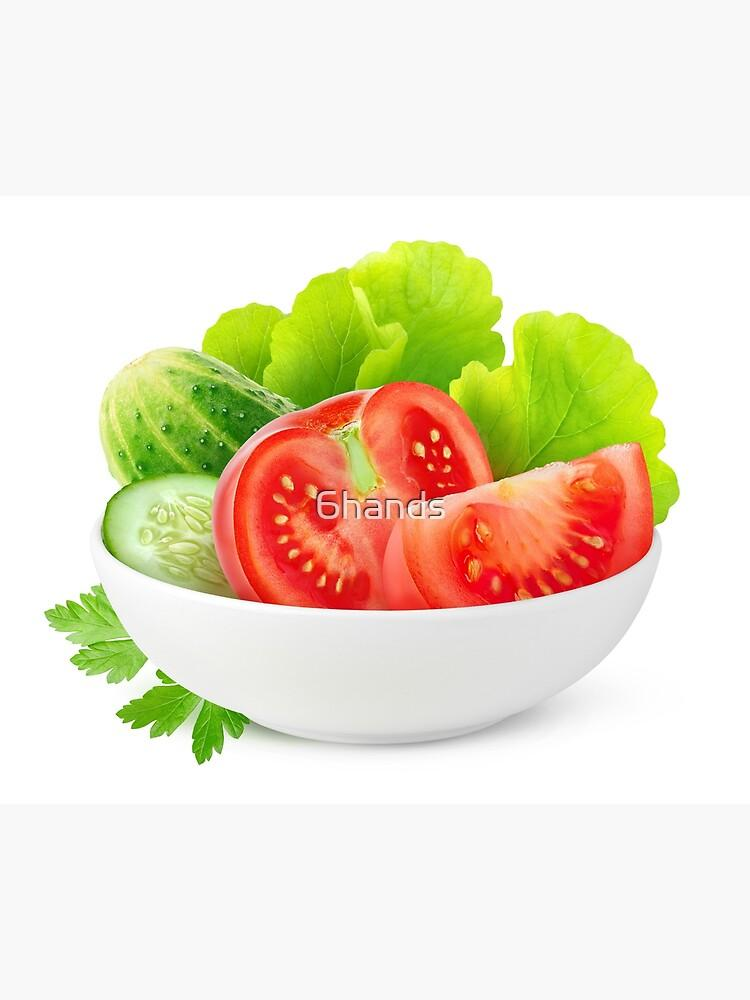tomato: (236, 408, 688, 621)
